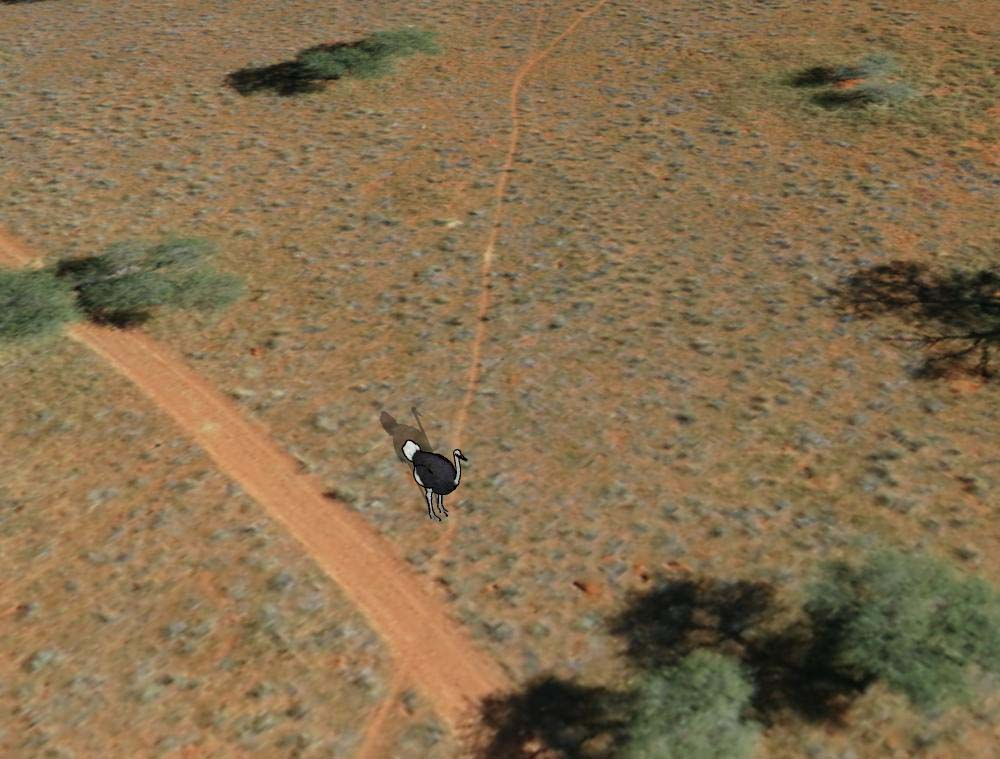springbok: (401, 443, 470, 528)
